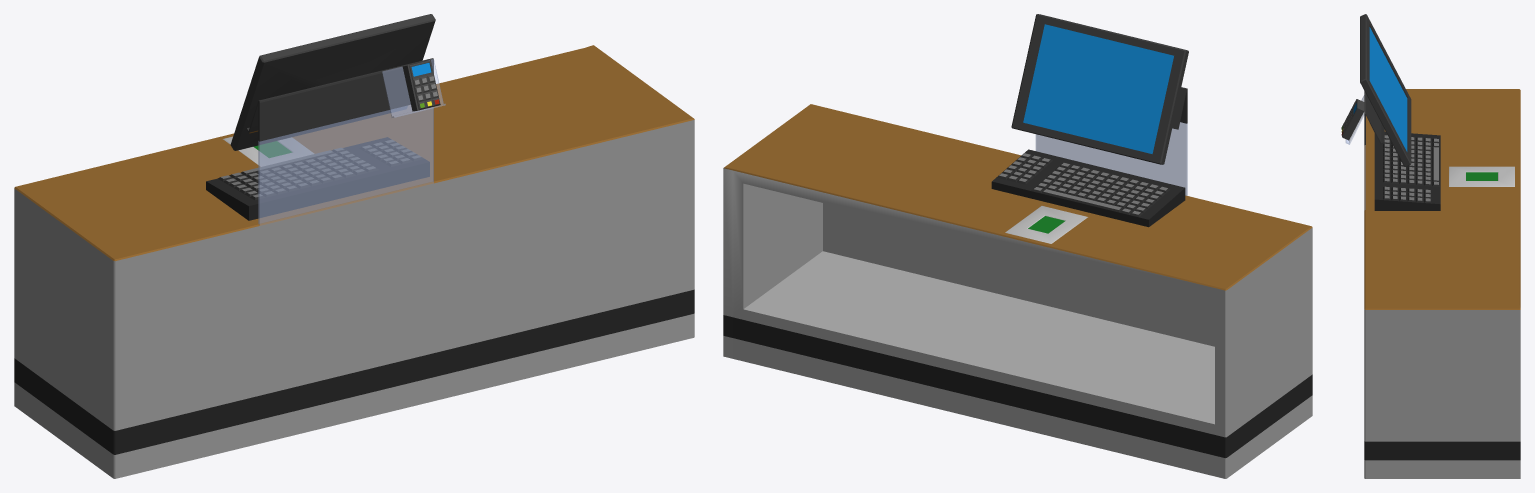
The model's file is checkout_sm_right_rework.glb.
3 views of the same model, side by side, from view 1: azimuth 30°, elevation 25°; view 2: azimuth 150°, elevation 25°; view 3: azimuth 270°, elevation 25° (orthographic). The views are drawn at different scales.
Parts seen in each view (by area): view 1: checkout_sm_right; view 2: checkout_sm_right; view 3: checkout_sm_right.
Part boxes in pixels (x1,y1,x2,y2): checkout_sm_right: [14, 14, 694, 478]; checkout_sm_right: [723, 14, 1312, 478]; checkout_sm_right: [1341, 14, 1520, 478].
Size of what is drawn, in the model's own units: 2.5 by 1.59 by 0.8612.
Materials: 4 (2 with a texture image).
